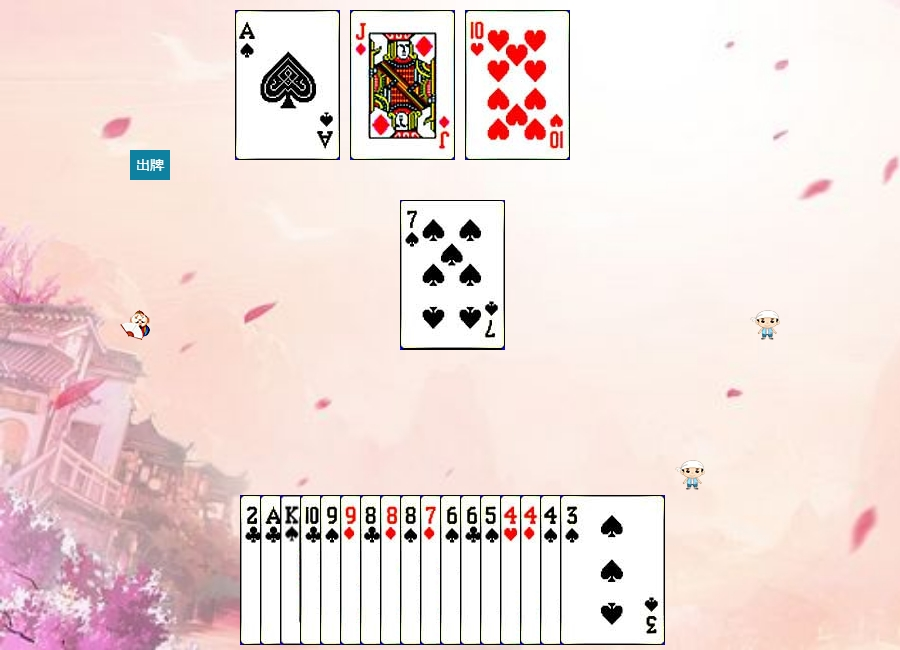10~2: (300, 495, 405, 645)
10~3: (465, 10, 570, 160)
11~1: (350, 10, 455, 160)
13~4: (280, 495, 385, 645)
14~2: (260, 495, 365, 645)
14~4: (235, 10, 340, 160)
15~2: (240, 495, 345, 645)
3~4: (560, 495, 665, 645)
4~1: (520, 495, 625, 645)
4~3: (500, 495, 605, 645)
4~4: (540, 495, 645, 645)
5~4: (480, 495, 585, 645)
6~2: (460, 495, 565, 645)
6~4: (440, 495, 545, 645)
7~1: (420, 495, 525, 645)
7~4: (400, 200, 505, 350)
8~1: (380, 495, 485, 645)
8~2: (360, 495, 465, 645)
8~4: (400, 495, 505, 645)
9~1: (340, 495, 445, 645)
9~4: (320, 495, 425, 645)
